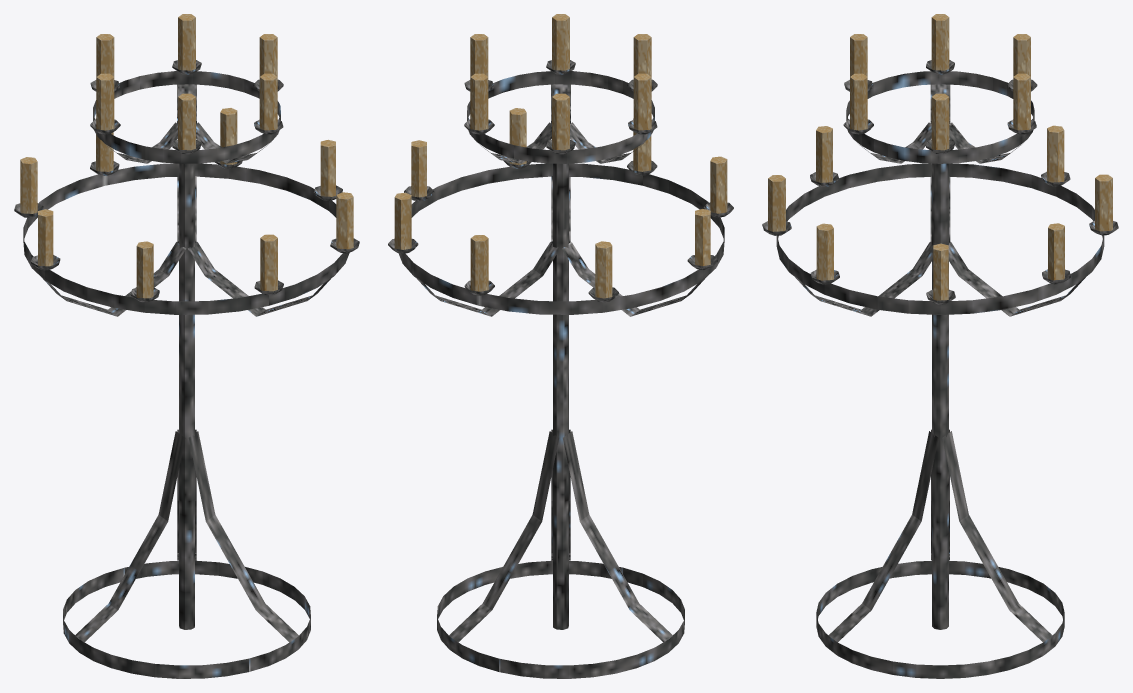
The model's file is SM_Dungeon_Candelabra.fbx.
3 views of the same model, side by side, from view 1: azimuth 30°, elevation 25°; view 2: azimuth 150°, elevation 25°; view 3: azimuth 270°, elevation 25° (orthographic).
Parts seen in each view (by area): view 1: SM_Dungeon_Candelabra; view 2: SM_Dungeon_Candelabra; view 3: SM_Dungeon_Candelabra.
Boxes of the visible parts, box(x1,y1,x2,y2) form: SM_Dungeon_Candelabra: box(14, 14, 359, 678); SM_Dungeon_Candelabra: box(388, 14, 733, 678); SM_Dungeon_Candelabra: box(762, 14, 1118, 678).
Size of the model in its own units: 124 by 219 by 124.
